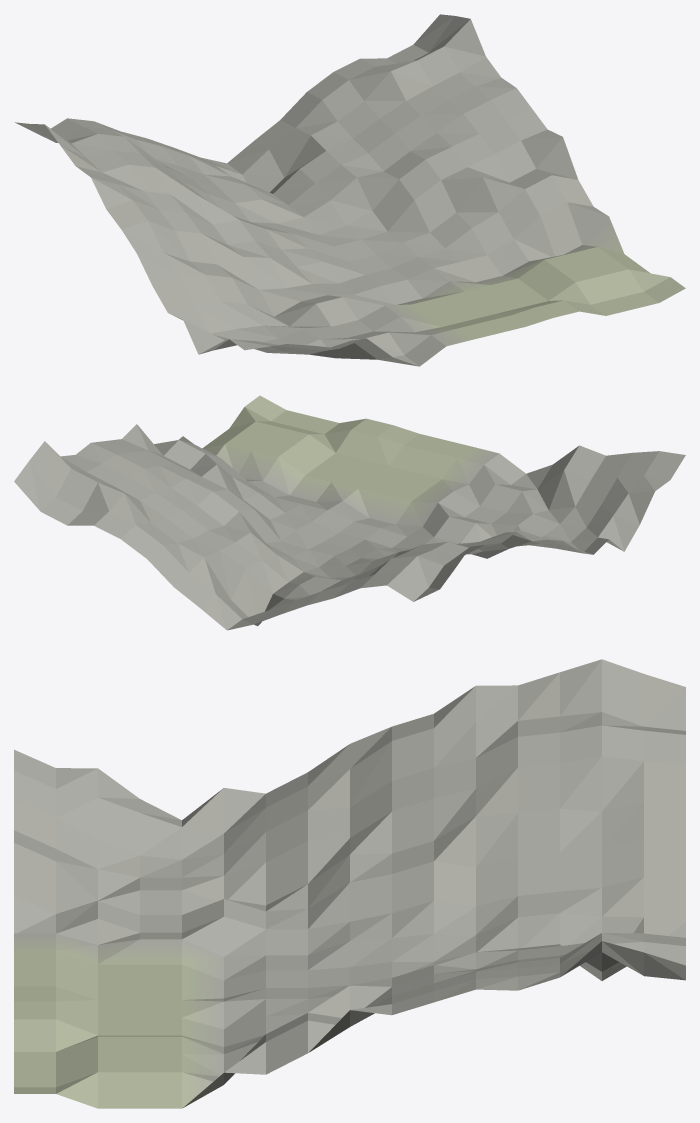
3 views of the same model, one above another, from view 1: azimuth 30°, elevation 25°; view 2: azimuth 150°, elevation 25°; view 3: azimuth 270°, elevation 25° (orthographic). The views are drawn at different scales.
Size of the model in its own units: 32 by 9.58 by 32.
